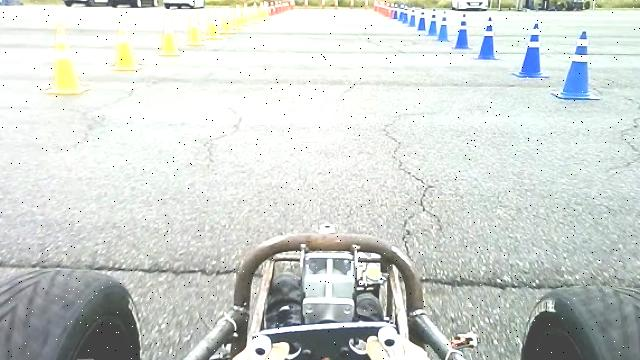blue cone: (550, 27, 599, 98), (512, 22, 550, 78), (475, 16, 500, 60), (451, 12, 474, 50), (436, 10, 452, 41)
yellow cone: (44, 25, 92, 93), (110, 17, 146, 70), (159, 12, 183, 56), (186, 9, 206, 45), (205, 8, 222, 38), (220, 4, 238, 32)
